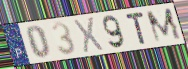0: (25, 24, 53, 60)
3: (52, 20, 76, 58)
9: (102, 15, 126, 50)
M: (144, 6, 184, 44)
T: (124, 10, 148, 45)
X: (72, 16, 105, 55)
